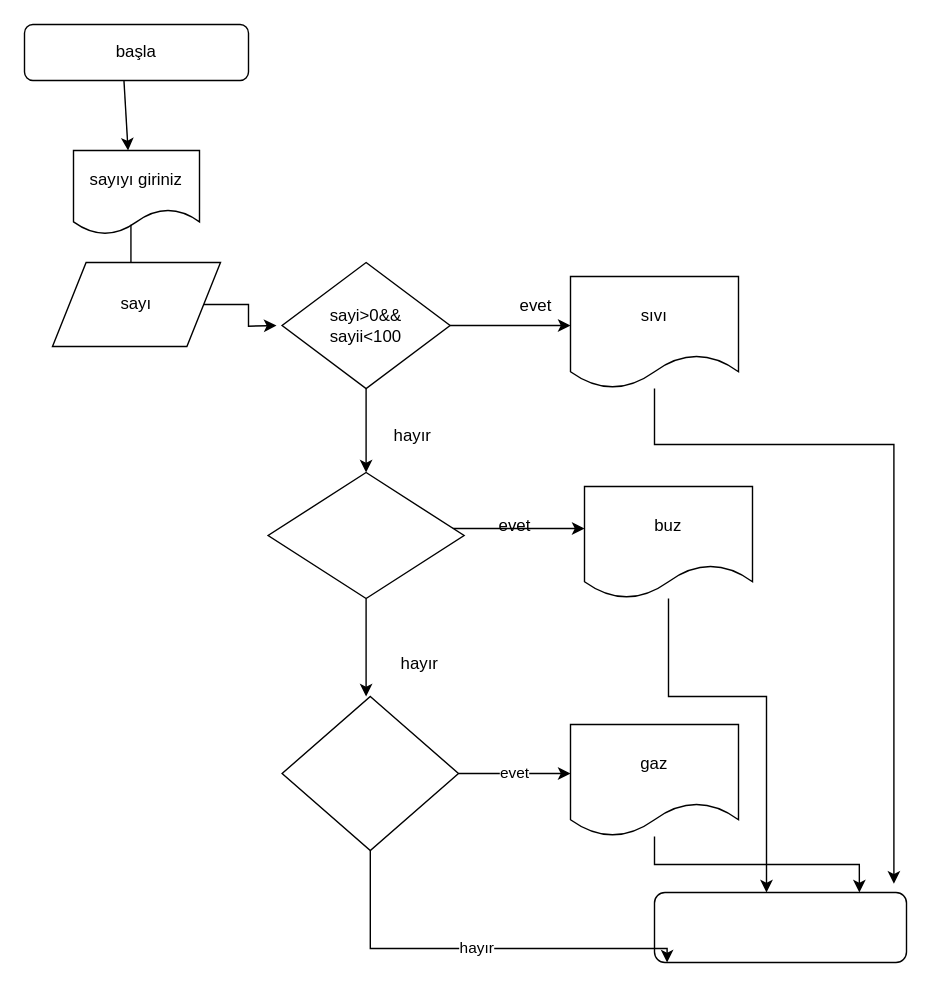
This 931x998 diagram has some shape labels left out. Each missing label, with the centre of its shape:
"bitir" belongs at [779,926].
"sayi<=0" belongs at [365,534].
"sayi>=100" belongs at [369,772].
